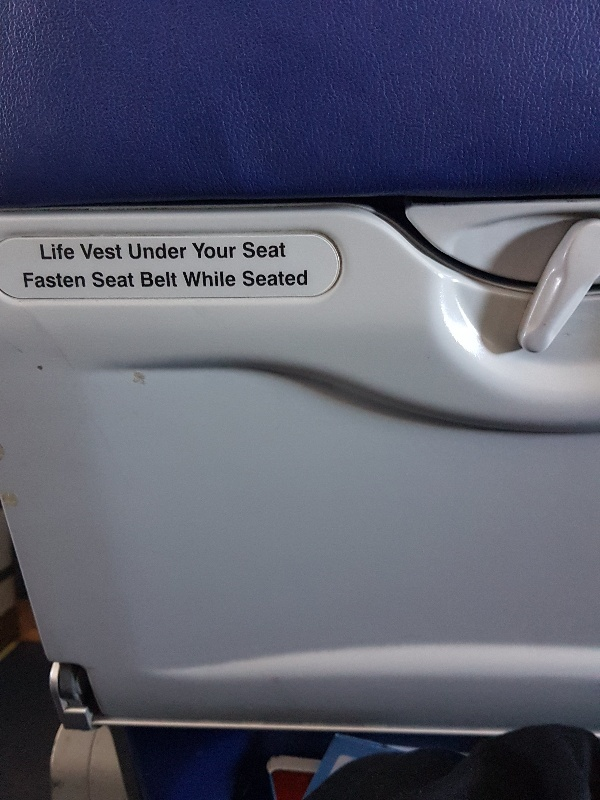text: (129, 242, 144, 260), (145, 242, 160, 260), (161, 242, 176, 260), (193, 242, 208, 260), (209, 242, 224, 260), (257, 241, 272, 259), (273, 241, 288, 259), (49, 244, 64, 261), (81, 243, 96, 260), (97, 243, 112, 260), (33, 272, 48, 289), (49, 272, 64, 289), (65, 272, 80, 289), (257, 270, 272, 287), (273, 270, 288, 287), (289, 270, 304, 287), (97, 272, 112, 288), (113, 272, 128, 288), (145, 272, 160, 288), (161, 272, 176, 288), (193, 271, 208, 287), (209, 271, 224, 287), (242, 270, 256, 287), (225, 242, 238, 260), (243, 241, 256, 259), (177, 242, 188, 260), (225, 271, 237, 287), (65, 244, 76, 261), (113, 243, 123, 260), (39, 244, 48, 261), (23, 272, 32, 289), (183, 271, 192, 287), (129, 272, 136, 288), (81, 272, 86, 289), (92, 272, 96, 288), (305, 270, 308, 287), (141, 272, 144, 288), (127, 242, 128, 260), (79, 243, 80, 260), (177, 272, 178, 288)
